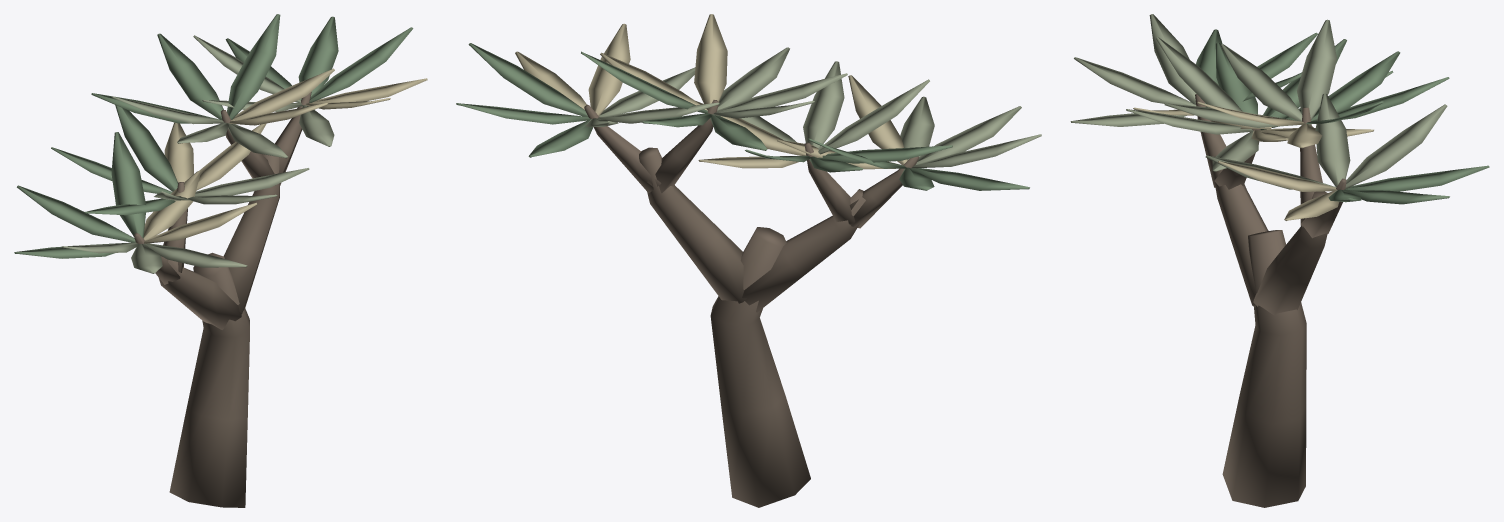
File: joshua_tree.glb
The picture shows the model from 3 angles, left to right: view 1: azimuth 30°, elevation 25°; view 2: azimuth 150°, elevation 25°; view 3: azimuth 270°, elevation 25°; orthographic projection. The views are drawn at different scales.
Parts seen in each view (by area): view 1: joshua_tree; view 2: joshua_tree; view 3: joshua_tree.
Boxes of the visible parts, left/top/right/bottom form: joshua_tree: left=14, top=14, right=427, bottom=507; joshua_tree: left=456, top=14, right=1041, bottom=507; joshua_tree: left=1070, top=14, right=1489, bottom=507.
Size of the model in its own units: 5.51 by 4.8 by 4.02.
